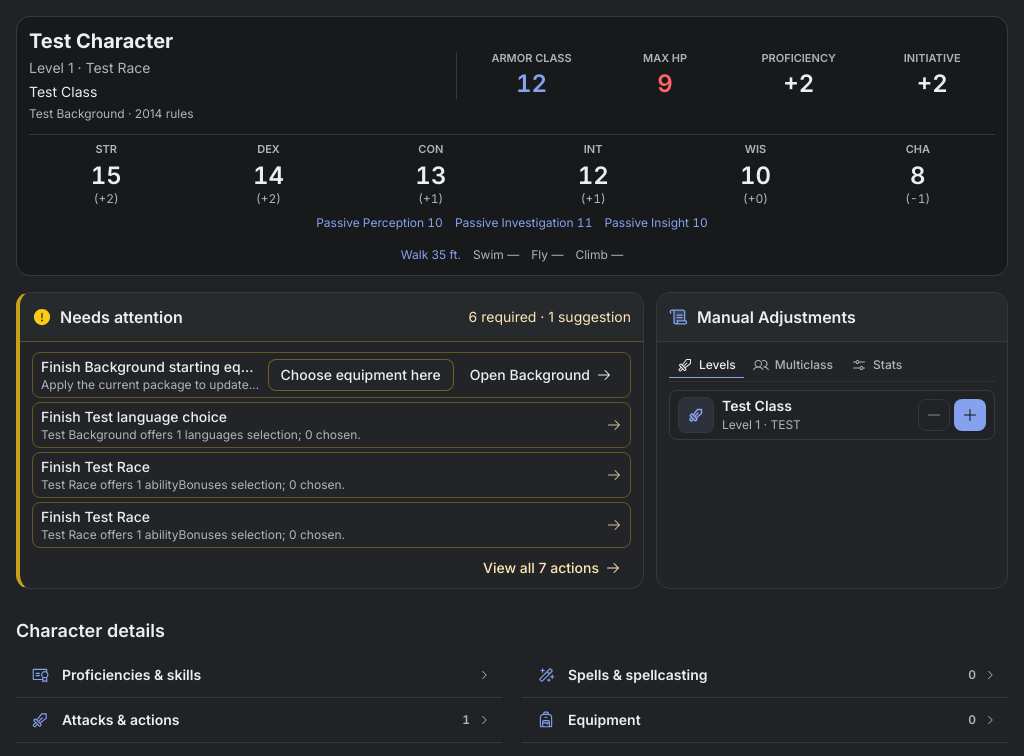
Scenario: BuildOverviewPage › confirms a fixed package application while the Overview dialog stays open
Click the button "Choose equipment here" at (361, 375), box [268,359,454,391]
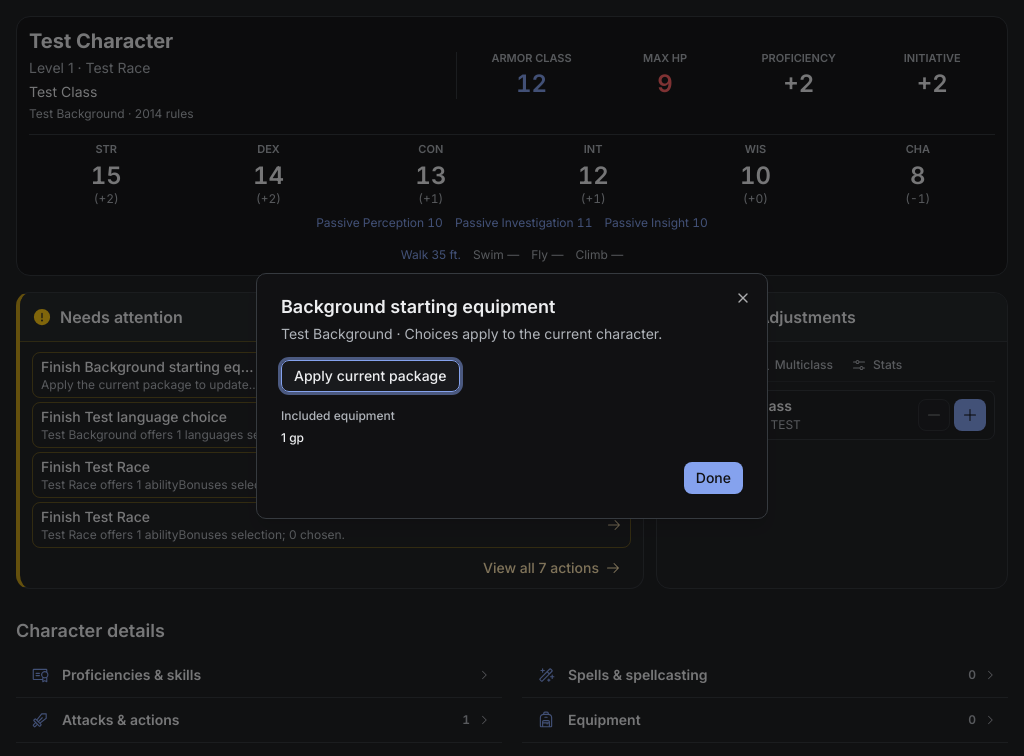
Click the button "Apply current package" at (370, 376), box [281,360,460,392]
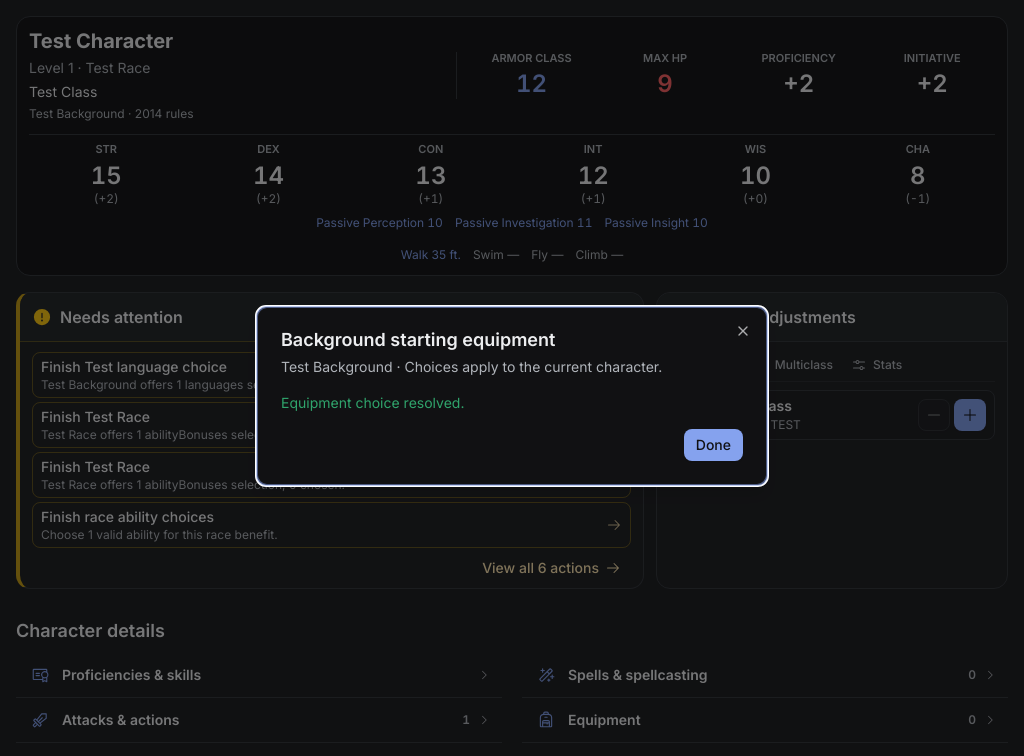
Now the text "Equipment choice resolved." is shown, box [281,394,464,411]
